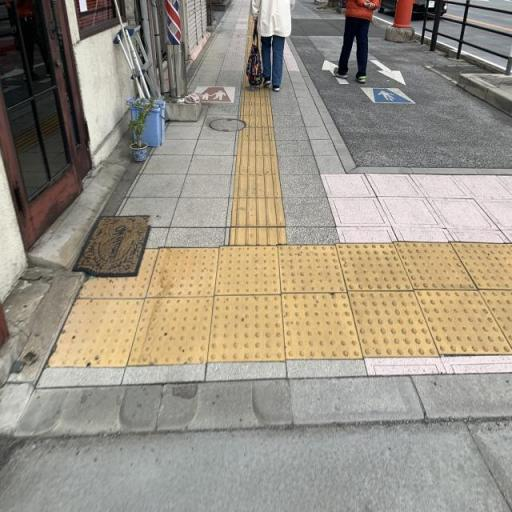dot: (45, 298, 146, 368), (412, 290, 511, 355), (348, 290, 442, 357), (127, 296, 213, 366), (280, 293, 365, 360), (208, 295, 286, 363), (392, 242, 479, 290), (336, 242, 415, 291), (146, 247, 219, 297), (277, 245, 347, 294), (214, 245, 281, 296)
line: (231, 197, 286, 228), (233, 174, 284, 199), (235, 155, 280, 175), (236, 140, 278, 156)
